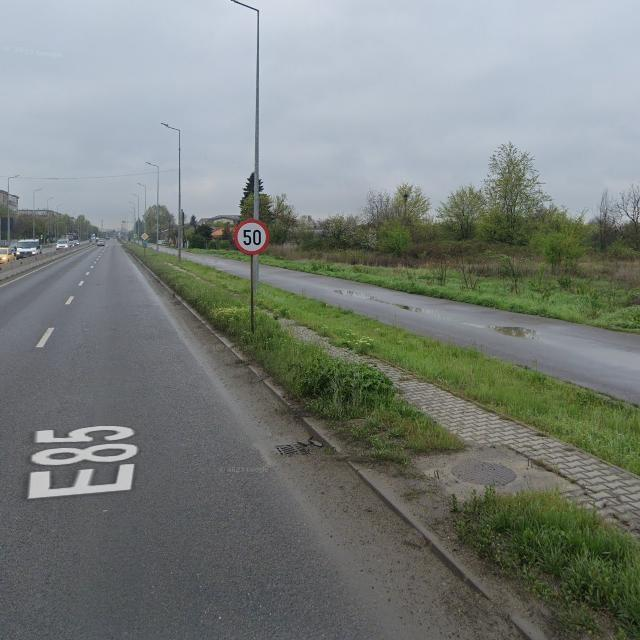forb_speed_over_50: (236, 219, 268, 254)
